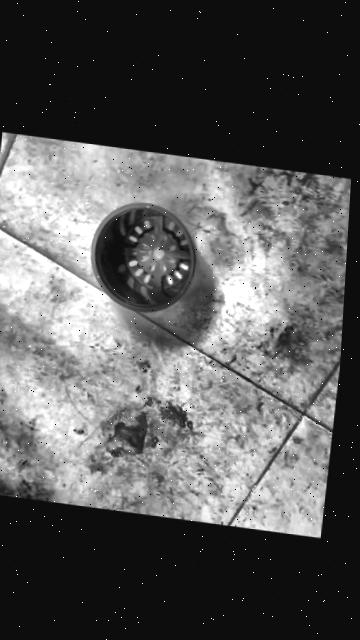pot: (84, 196, 202, 319)
